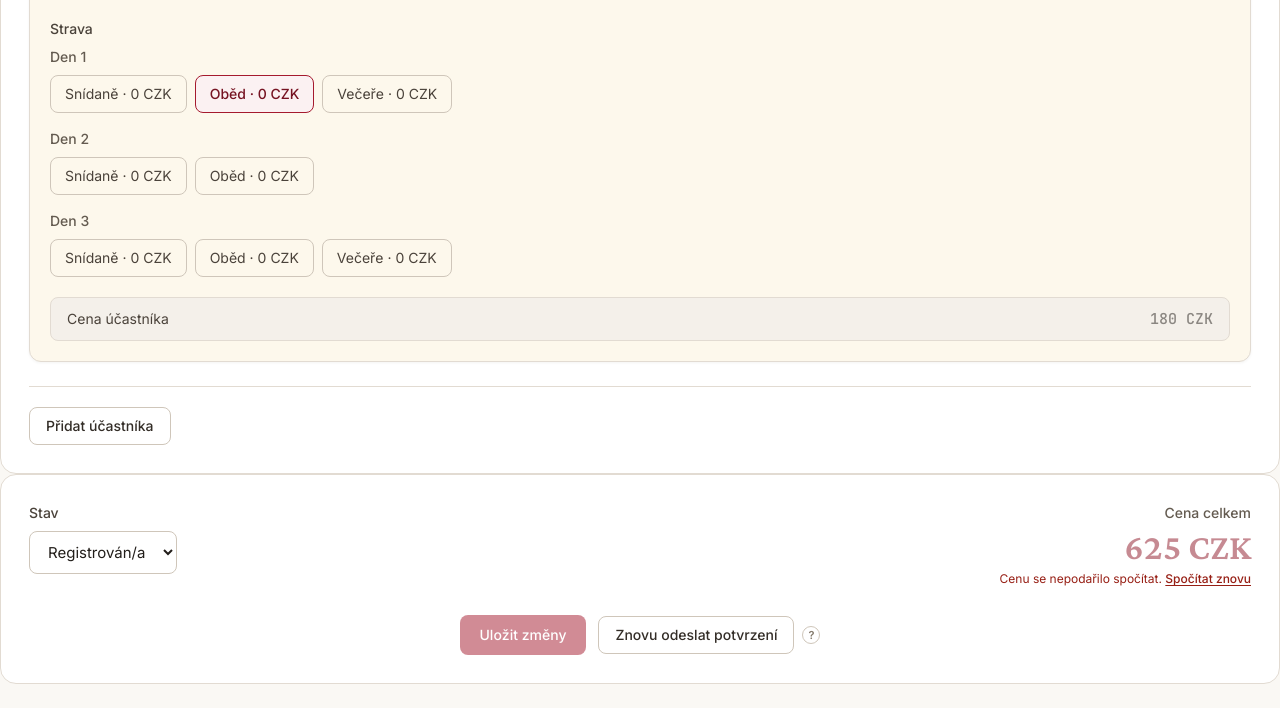
Test: the stored registration, shown as it is › a failed price request can be sent again
The width and height of the screenshot is (1280, 708).
(page scrolled)
Expected: the text "Cenu se nepodařilo spočítat." is shown, left=1000, top=571, right=1162, bottom=586
Step 1. Click the button "Spočítat znovu" → (1208, 579), box left=1165, top=571, right=1251, bottom=587
(page scrolled)
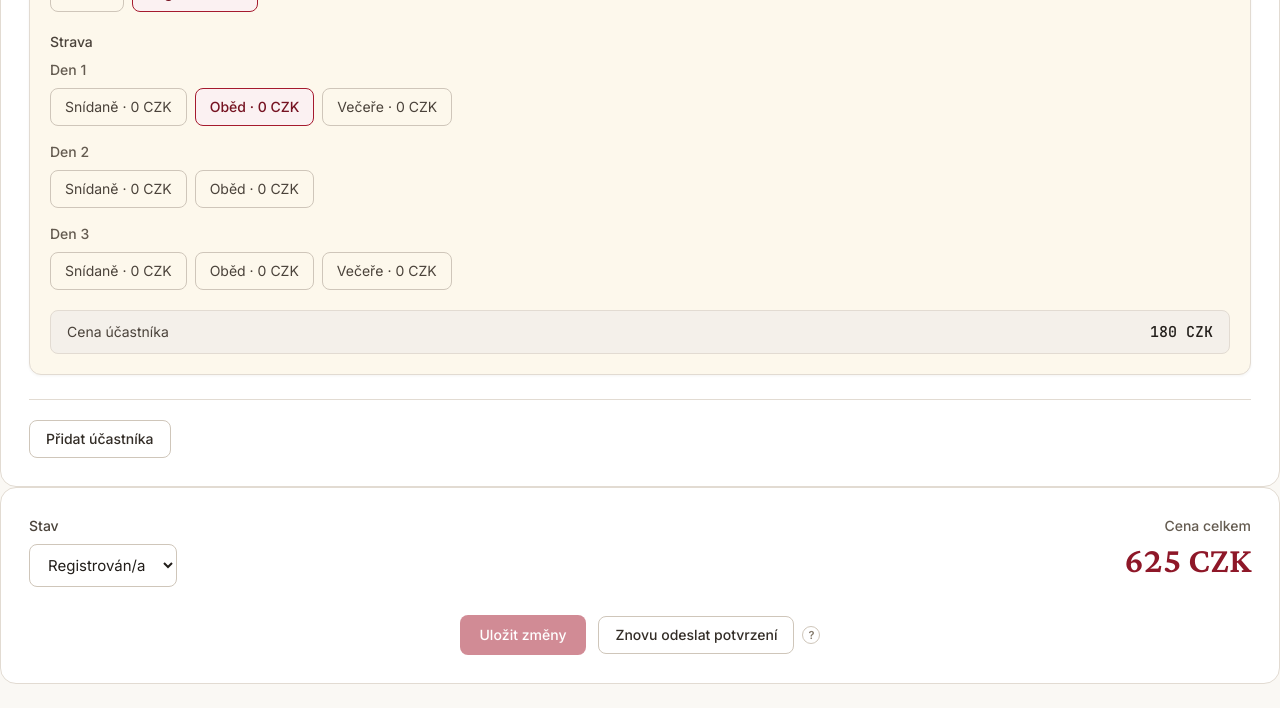
Now the text "Cenu se nepodařilo spočítat." is gone
